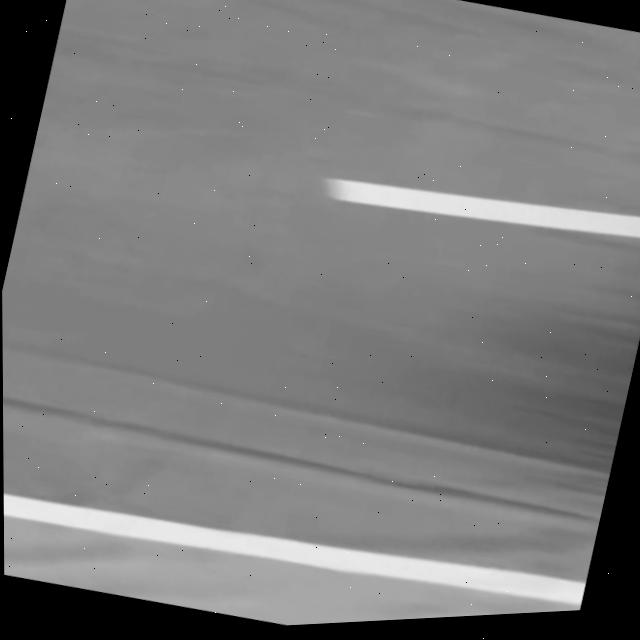center: (325, 177, 640, 238)
right: (4, 493, 586, 603)
